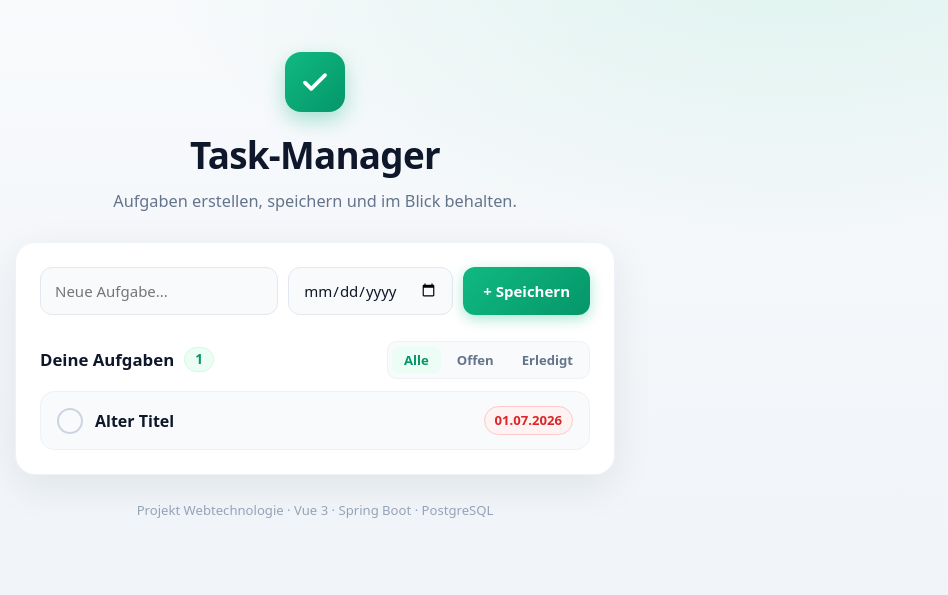
Test: TaskList › bearbeitet Titel und Datum einer Aufgabe
This screenshot has width=948, height=595.
Click the list item with class "task-item" at point(315, 421), box 40,391 -> 590,450
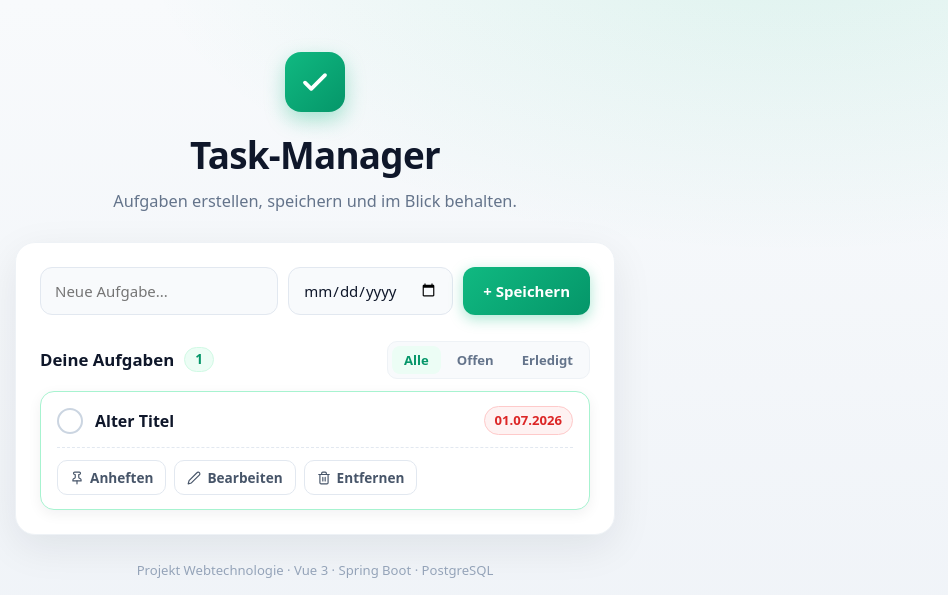
Click the button "Bearbeiten" at point(235, 478), box 174,460 -> 296,495
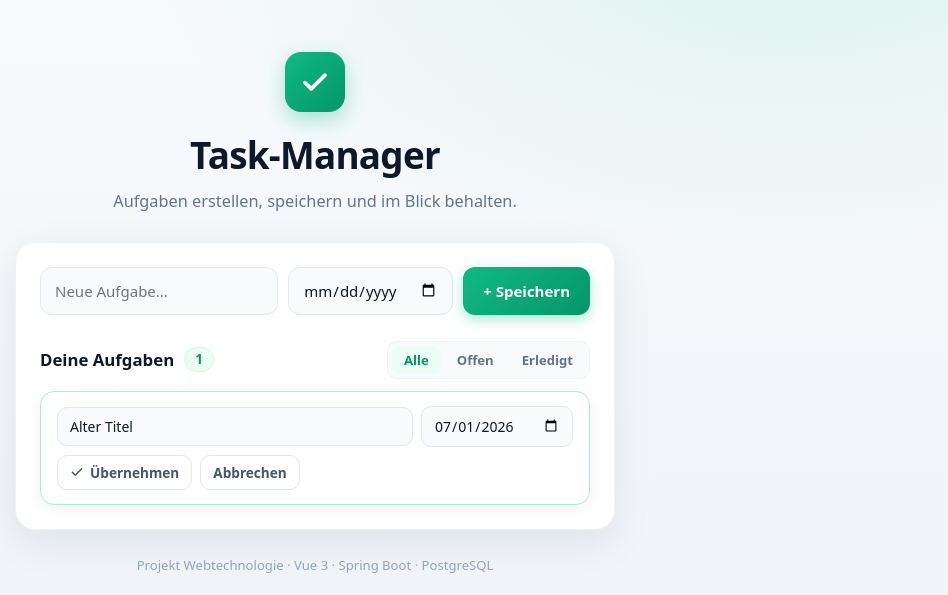
Replace the text in the field with class "edit-title" with "Neuer Titel" at point(235, 426), box 57,407 -> 413,446
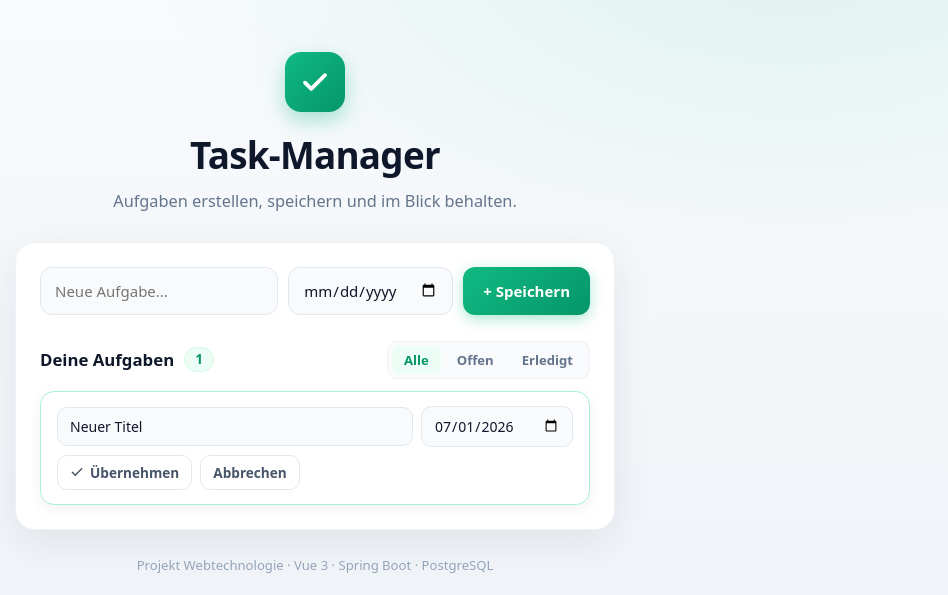
Click the button "Übernehmen" at point(125, 472), box 57,455 -> 192,490
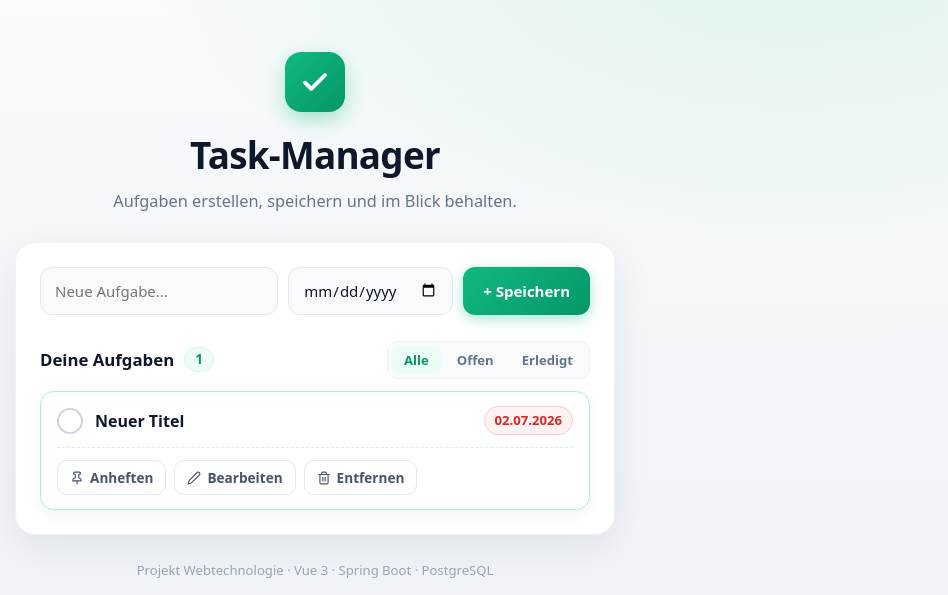
Expected: the text "Alter Titel" is not shown
Result: the text "Neuer Titel" is shown at 95,410 -> 184,432
